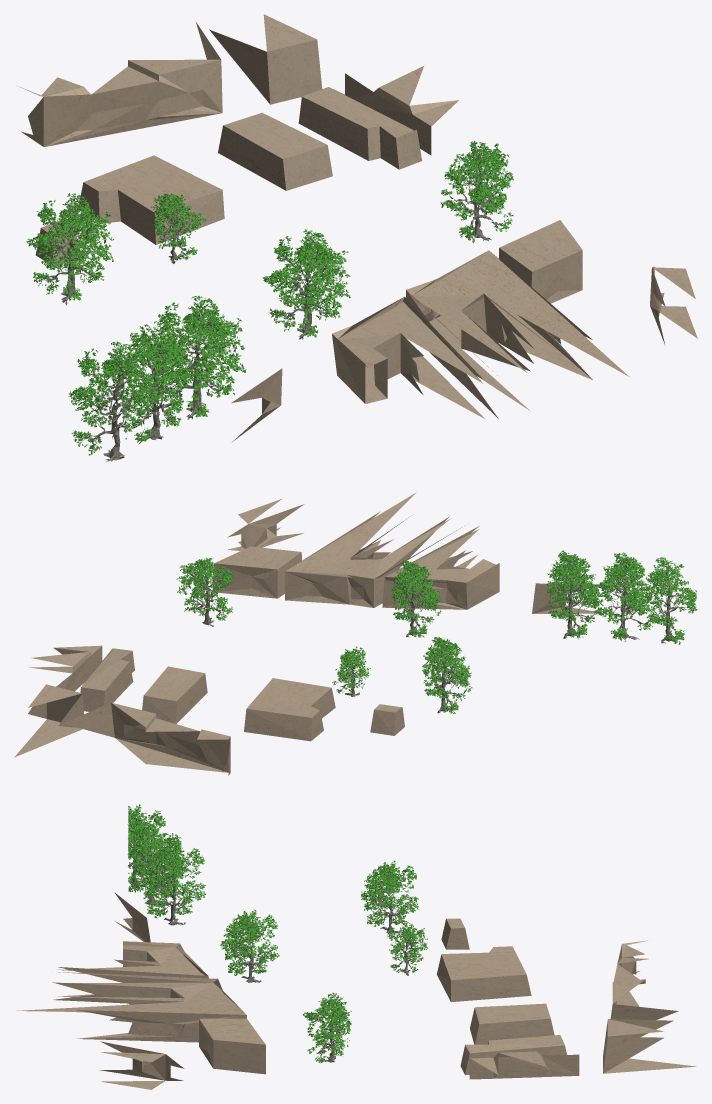
File: tile_0_0.gltf
3 renders of one model, top to bottom at view 1: azimuth 30°, elevation 25°; view 2: azimuth 150°, elevation 25°; view 3: azimuth 270°, elevation 25°, orthographic. The views are drawn at different scales.
Parts seen in each view (by area): view 1: Plane.011@tile_0_0, Bodhi Tree_Bodhi_front_2_Mat_0.044@tile_0_0; view 2: Plane.011@tile_0_0, Bodhi Tree_Bodhi_front_2_Mat_0.044@tile_0_0; view 3: Plane.011@tile_0_0, Bodhi Tree_Bodhi_front_2_Mat_0.044@tile_0_0.
Boxes of the visible parts, <box> form: Plane.011@tile_0_0: <box>16,14,697,441</box>; Bodhi Tree_Bodhi_front_2_Mat_0.044@tile_0_0: <box>26,141,513,461</box>; Plane.011@tile_0_0: <box>14,492,605,775</box>; Bodhi Tree_Bodhi_front_2_Mat_0.044@tile_0_0: <box>176,550,697,713</box>; Plane.011@tile_0_0: <box>16,892,696,1089</box>; Bodhi Tree_Bodhi_front_2_Mat_0.044@tile_0_0: <box>127,804,427,1062</box>.
Bounding box in the file's own units: 101 × 17.45 × 130.
3 materials, 2 textured.
